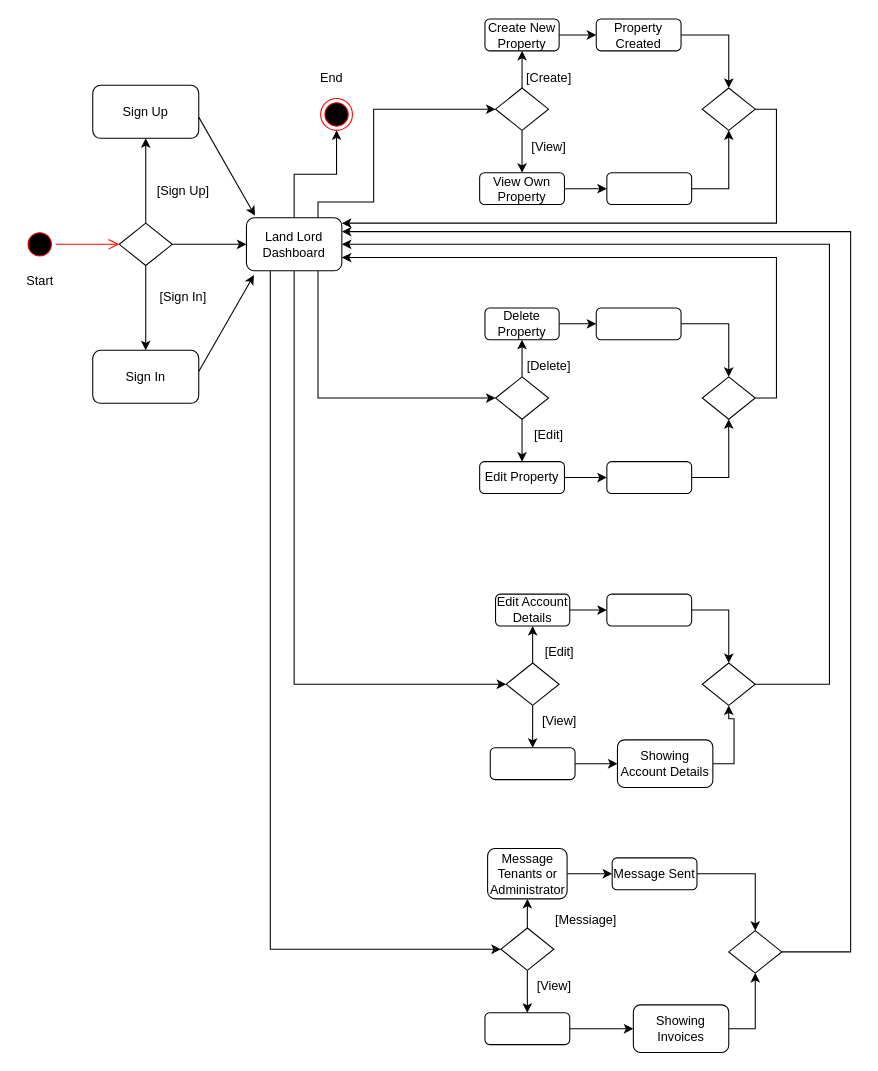
Some shapes in this 878 by 1071 pixel diagram are drawn without their labels. The shapes that lost their labels are listed below. From the top down, each one's centre as x and y in pixels, then its label:
At point 649,188: "Property Listings".
At point 638,323: "Property Deleted".
At point 649,477: "Property Edited".
At point 649,609: "Details Edited".
At point 532,763: "View Account Details".
At point 527,1028: "View Invoice Details".
